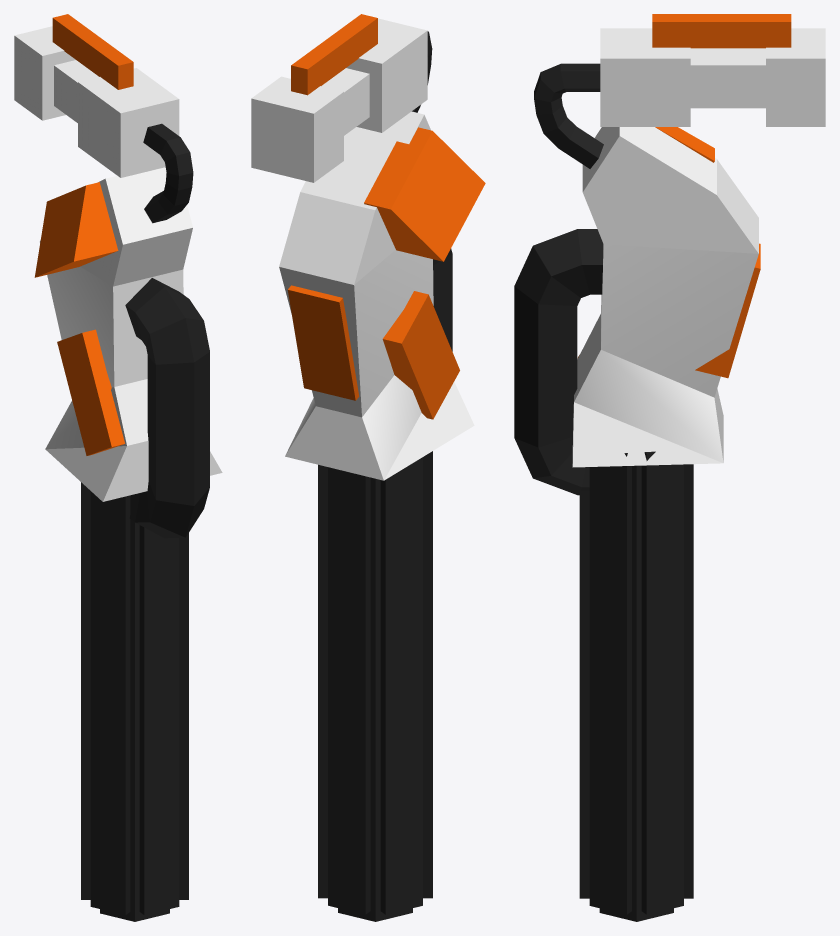
Rendered from Gun.obj.
3 views of the same model, side by side, from view 1: azimuth 30°, elevation 25°; view 2: azimuth 150°, elevation 25°; view 3: azimuth 270°, elevation 25° (orthographic). The views are drawn at different scales.
Visible parts, largest first — view 1: Cylinder002, Plane002, Line009, Box007, Box006, Box005, Box008, Line010; view 2: Cylinder002, Plane002, Box007, Box006, Box004, Box005, Box008, Line009; view 3: Cylinder002, Plane002, Box007, Line009, Box008, Line010, Box004, Box006.
Part boxes in pixels (x1,y1,x2,y2): Cylinder002: (81,482,188,921); Plane002: (40,167,222,501); Line009: (125,278,209,538); Box007: (14,26,179,177); Box006: (34,182,118,277); Box005: (57,329,124,455); Box008: (52,14,133,89); Line010: (143,123,193,223); Cylinder002: (318,451,432,921); Plane002: (279,111,474,480); Box007: (251,18,427,182); Box006: (364,127,485,261); Box004: (287,285,359,400); Box005: (382,291,459,419); Box008: (291,14,377,95); Line009: (433,248,452,351); Cylinder002: (579,451,693,921); Plane002: (572,127,758,467); Box007: (600,28,825,126); Line009: (514,229,603,495); Box008: (652,14,791,48); Line010: (534,63,603,168); Box004: (695,243,760,378); Box006: (655,127,714,162).
Size of the model in its own units: 0.1711 by 0.9801 by 0.3124.
